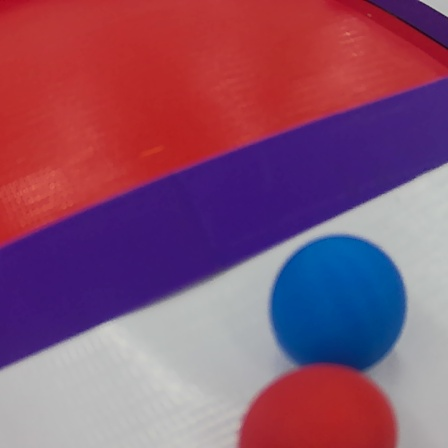blue: (275, 231, 409, 377)
red: (237, 359, 403, 448)
red_aim: (3, 0, 448, 379)
